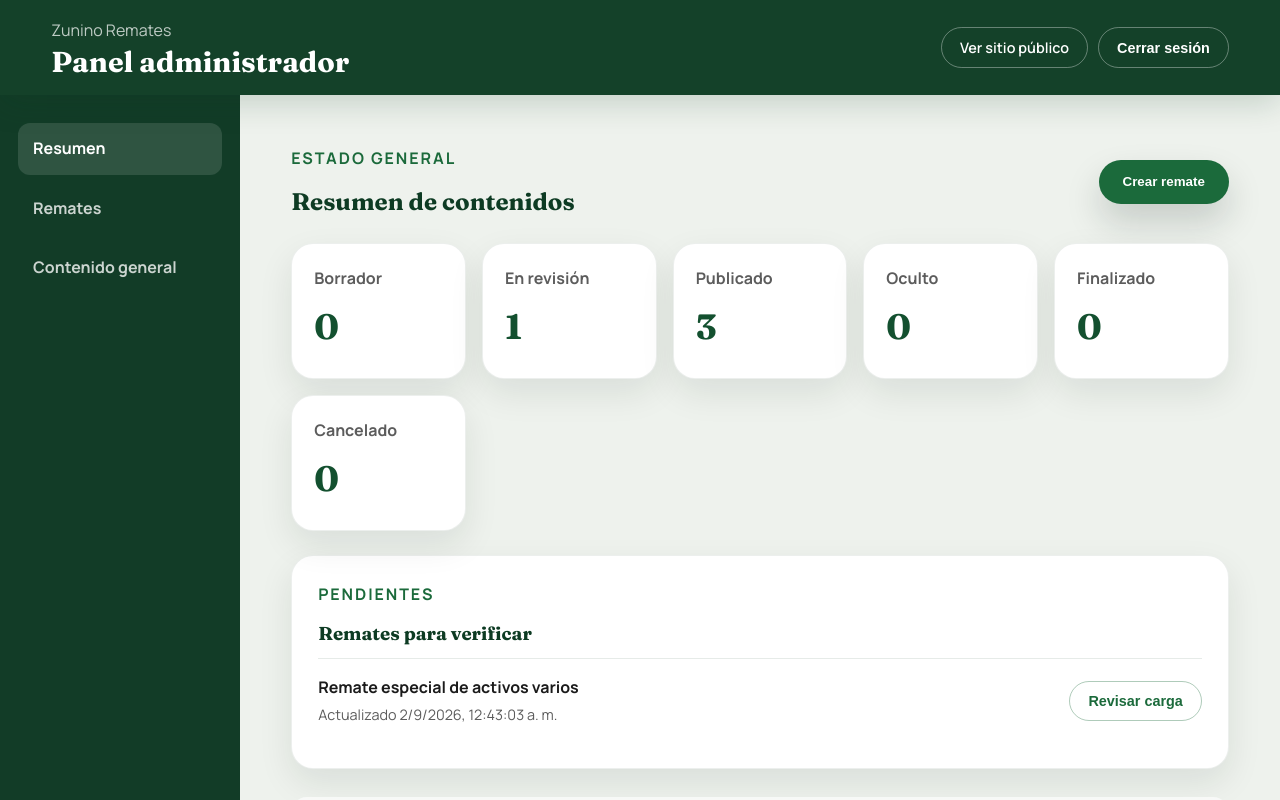
it: panel administrador › no finaliza ni cancela un remate si se cierra el modal
Click the button "Remates".
click(120, 209)  # box [18,183,222,234]
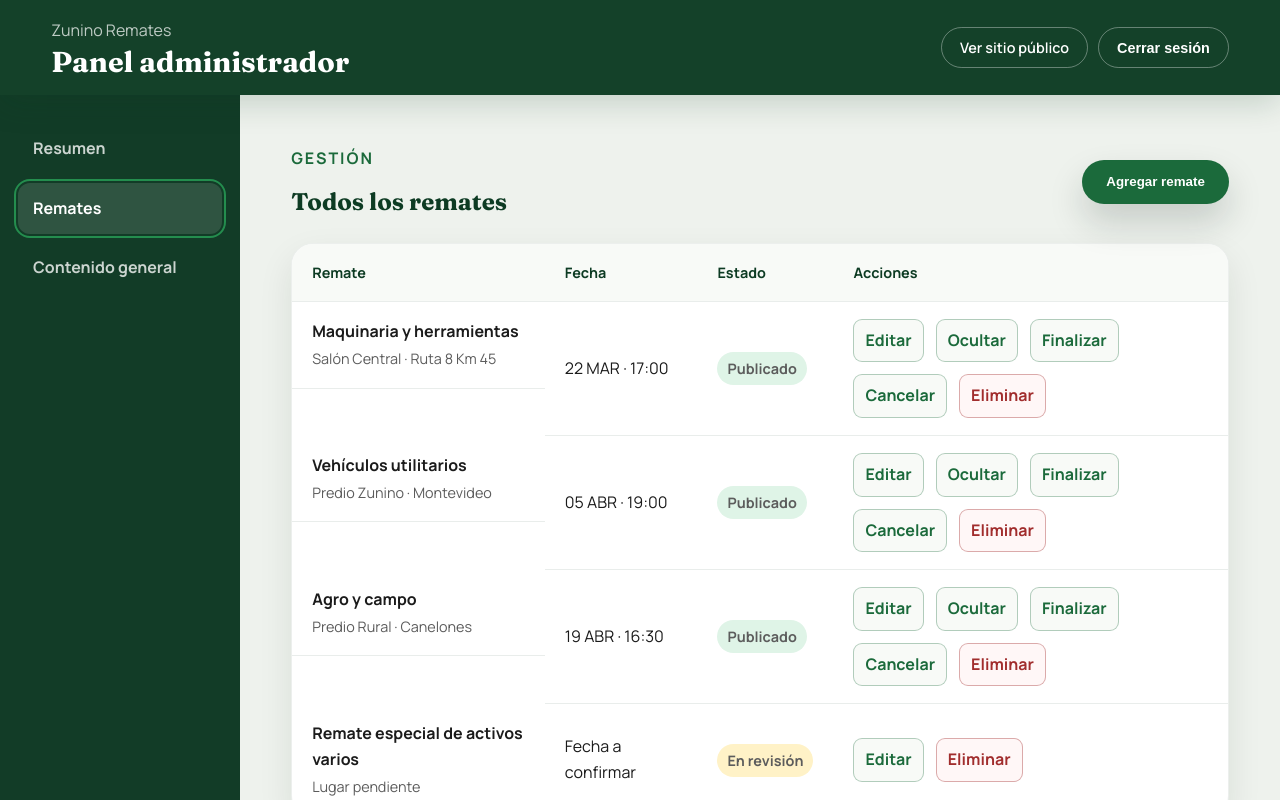
Click the button "Finalizar" in the row of "Maquinaria y herramientas".
click(1074, 341)  # box [1030,319,1119,362]
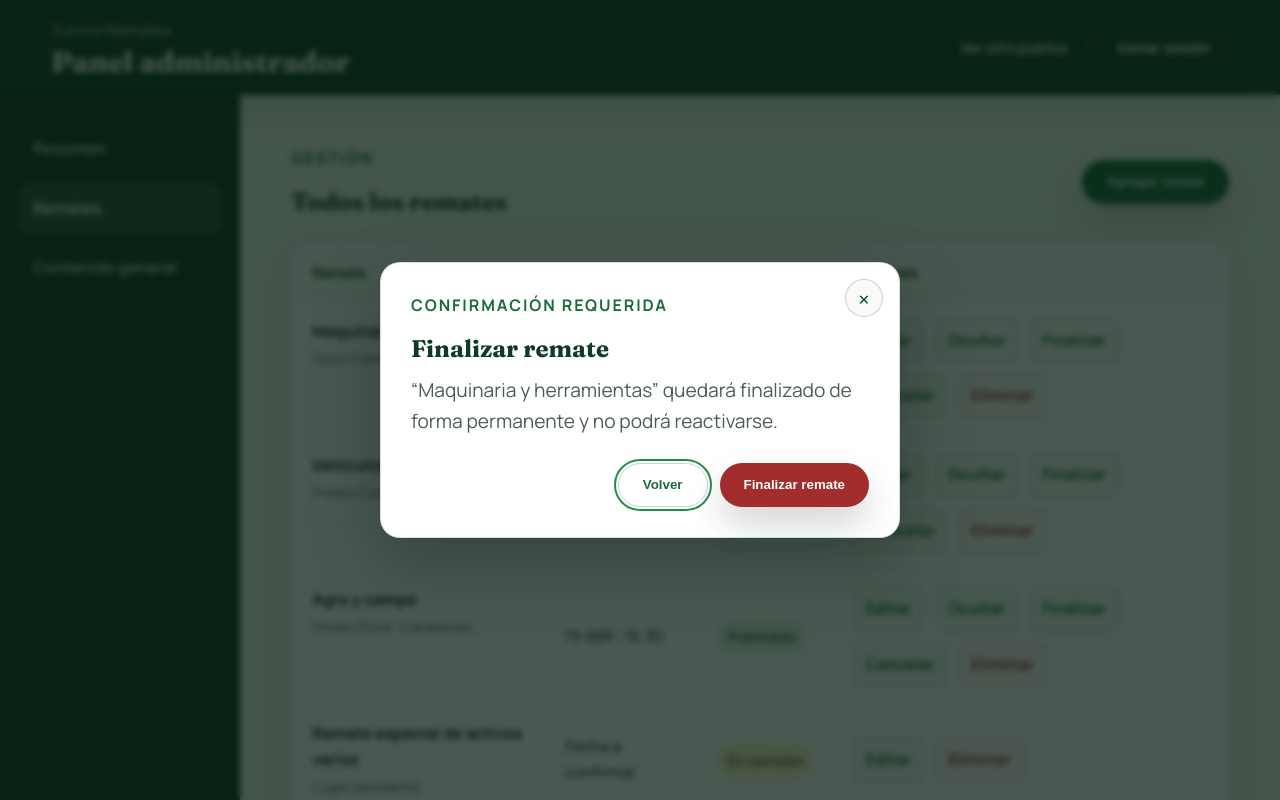
Expected: the text "forma permanente" is shown, [411,378,852,434]
Click the button "Volver".
click(663, 485)  # box [618,463,708,507]
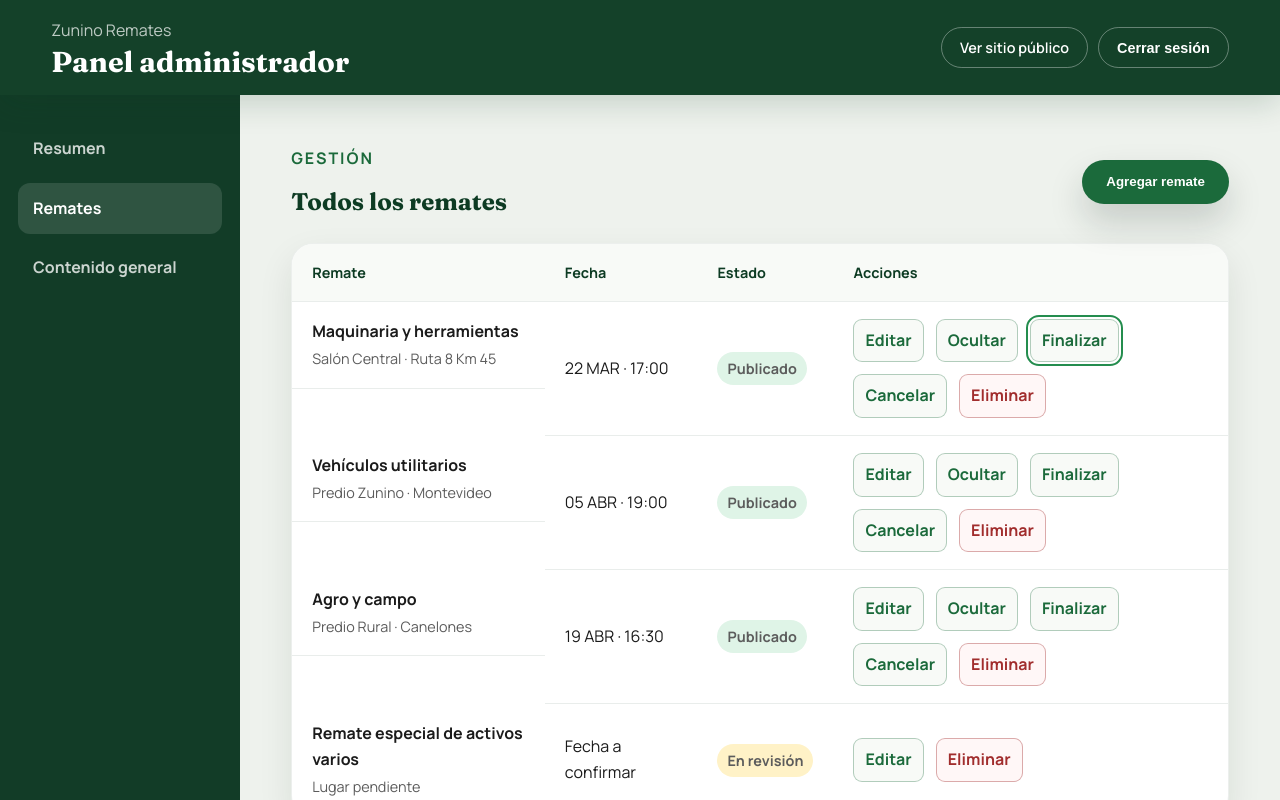
Click the button "Cancelar" in the row of "22 MAR · 17:00".
click(900, 396)  # box [854,374,947,418]
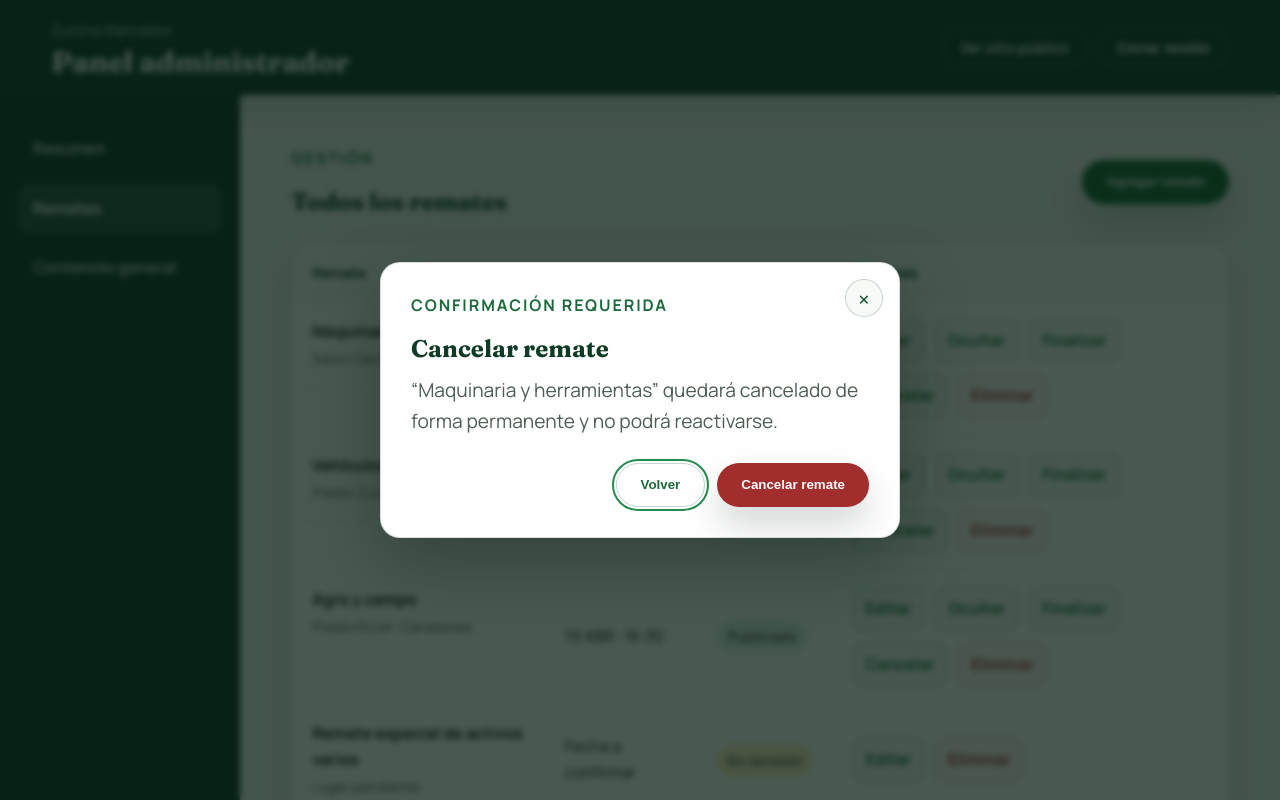
Click the button named "Cerrar confirmación".
click(864, 298)  # box [845,279,883,317]
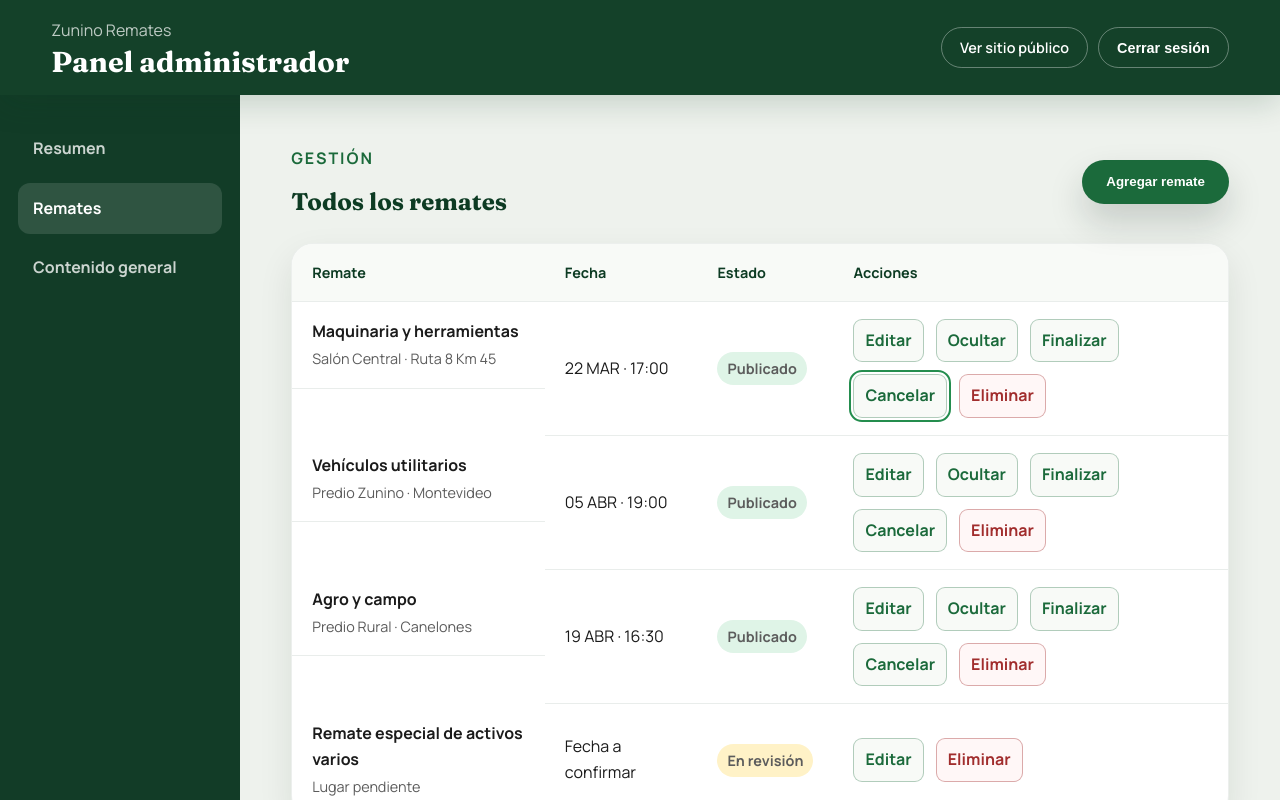
Expected: the text "Publicado" below "Maquinaria y herramientas" is shown, [728,359,797,378]
Expected: the dialog is gone
